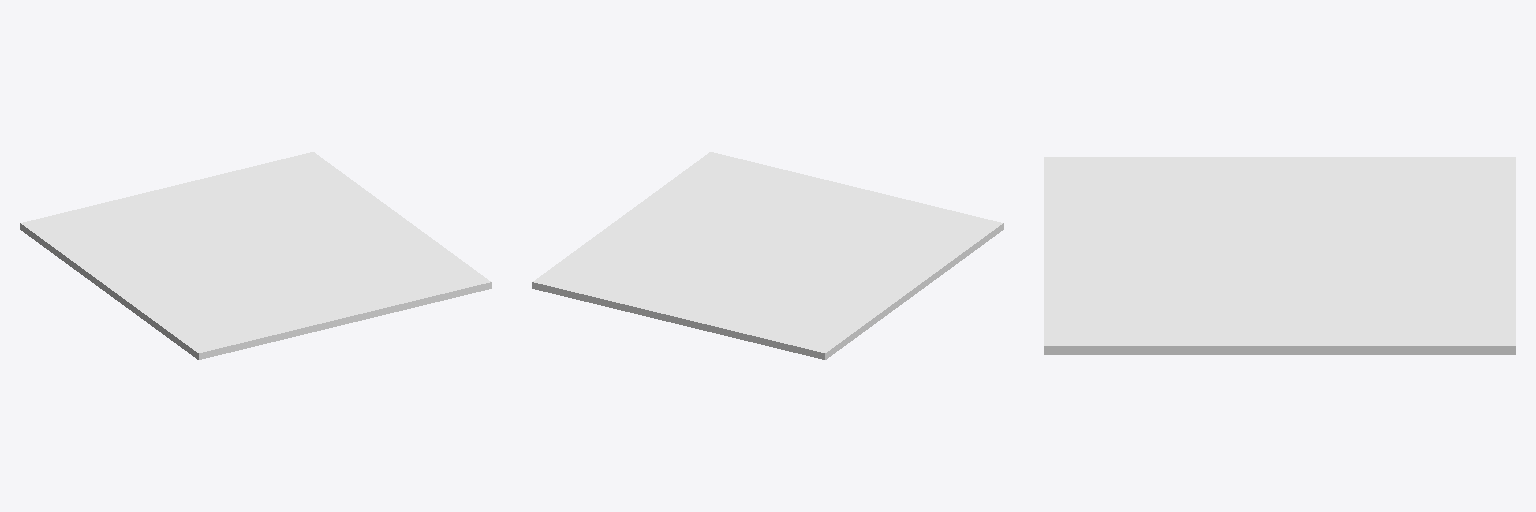
robot.urdf — robot_table:
<?xml version="1.0" ?>
<robot name="robot_table">
  <link name="baseLink">
    <contact>
      <lateral_friction value="1.0"/>
      <rolling_friction value="0.0"/>
      <contact_cfm value="0.0"/>
      <contact_erp value="1.0"/>
    </contact>
    <inertial>
      <origin rpy="0 0 0" xyz="0 0 0"/>
       <mass value="0"/>
       <inertia ixx="1" ixy="0" ixz="0" iyy="1" iyz="0" izz="1"/>
    </inertial>
    <visual>
      <origin rpy="0 0 0" xyz="0 0 0"/>
      <geometry>
		    <mesh filename="robot_table.obj" scale="1 1 1"/>
      </geometry>
      <material name="white">
        <color rgba="1 1 1 1"/>
      </material>
    </visual>
    <collision concave="yes">
      <origin rpy="0 0 0" xyz="0 0 0"/>
      <geometry>
	      <mesh filename="robot_table.obj" scale="1 1 1"/>
      </geometry>
    </collision>
  </link>
</robot>

--- What the picture shows (computed from the rendered views, not written in the file) ---
3 views of the same robot in one strip: view 1: azimuth 30°, elevation 25°; view 2: azimuth 150°, elevation 25°; view 3: azimuth 270°, elevation 25° (orthographic).
Robot: robot_table — 1 links, 0 joints (none); root link baseLink; default pose: all joints at 0.
Links seen in each view (by area): view 1: baseLink; view 2: baseLink; view 3: baseLink.
Link boxes in pixels (left/top/right/bottom): baseLink: left=20, top=152, right=491, bottom=359; baseLink: left=532, top=152, right=1003, bottom=359; baseLink: left=1044, top=157, right=1515, bottom=354.
Bounding box of the posed robot: 0.95 × 1 × 0.021 m (x, y, z).
1 mesh visuals loaded from 1 distinct referenced files (1 OBJ).
